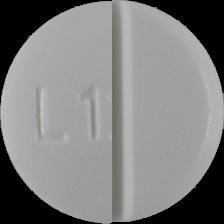16714-373: (0, 0, 224, 224)
